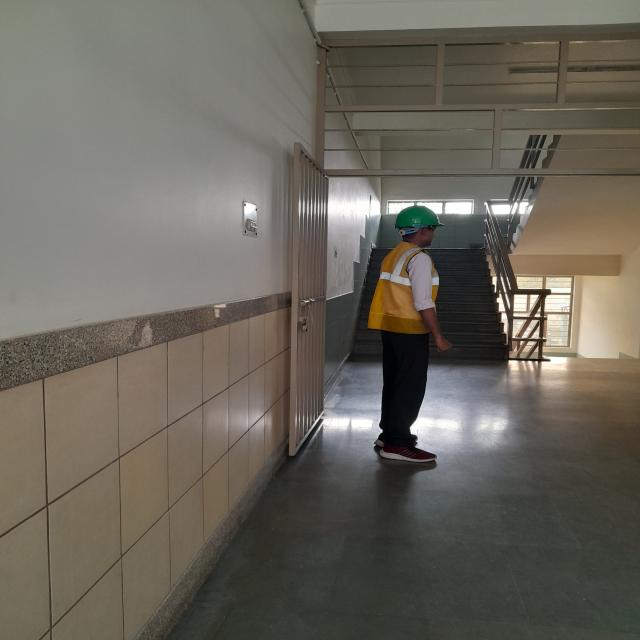safe: (368, 206, 452, 462)
